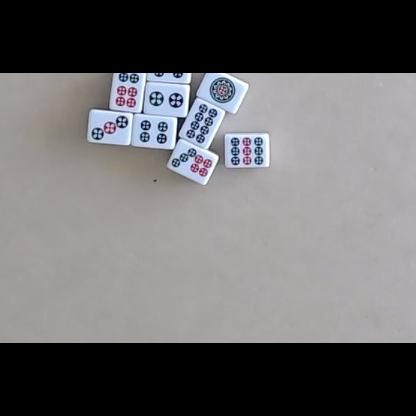1p: (209, 77, 237, 104)
2p: (149, 91, 184, 109)
3p: (91, 116, 129, 141)
4p: (139, 120, 169, 144)
5p: (153, 73, 185, 78)
6p: (114, 73, 140, 107)
7p: (172, 148, 212, 178)
8p: (186, 103, 218, 144)
9p: (231, 136, 264, 166)
